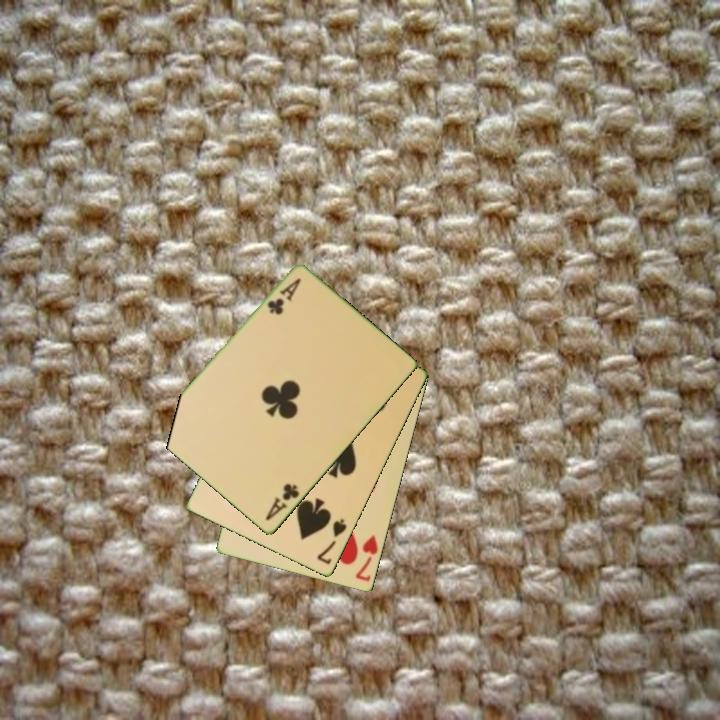7h: (352, 531, 381, 585)
7s: (313, 516, 350, 568)
Ac: (262, 480, 302, 524), (264, 275, 304, 318)
